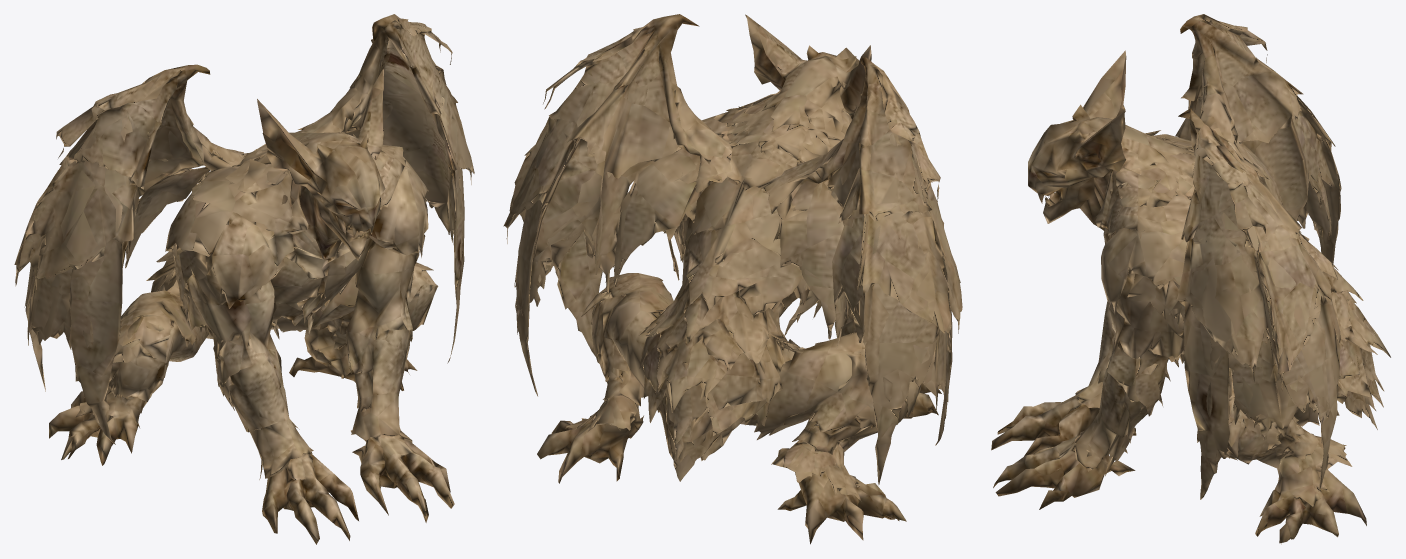
The model's file is gargoyle-lo.glb.
3 renders of one model, left to right at view 1: azimuth 30°, elevation 25°; view 2: azimuth 150°, elevation 25°; view 3: azimuth 270°, elevation 25°, orthographic. The views are drawn at different scales.
Bounding box in the file's own units: 1.88 × 1.67 × 1.49.
1 material, 1 textured.
